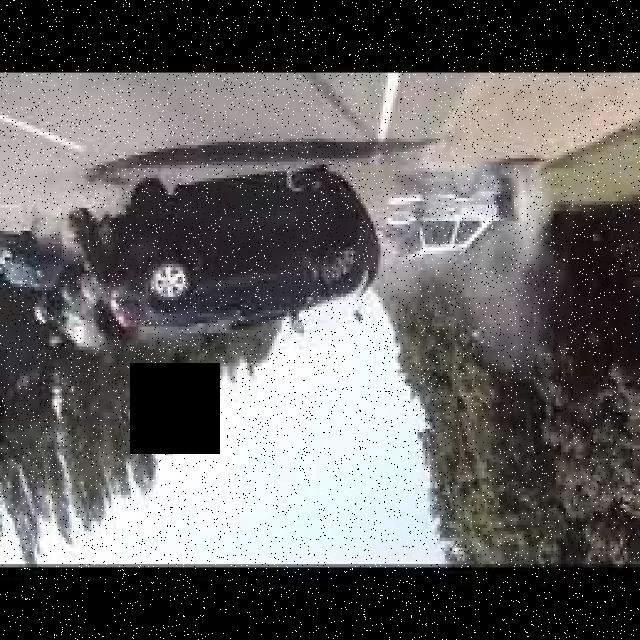severe: (64, 152, 378, 346)
